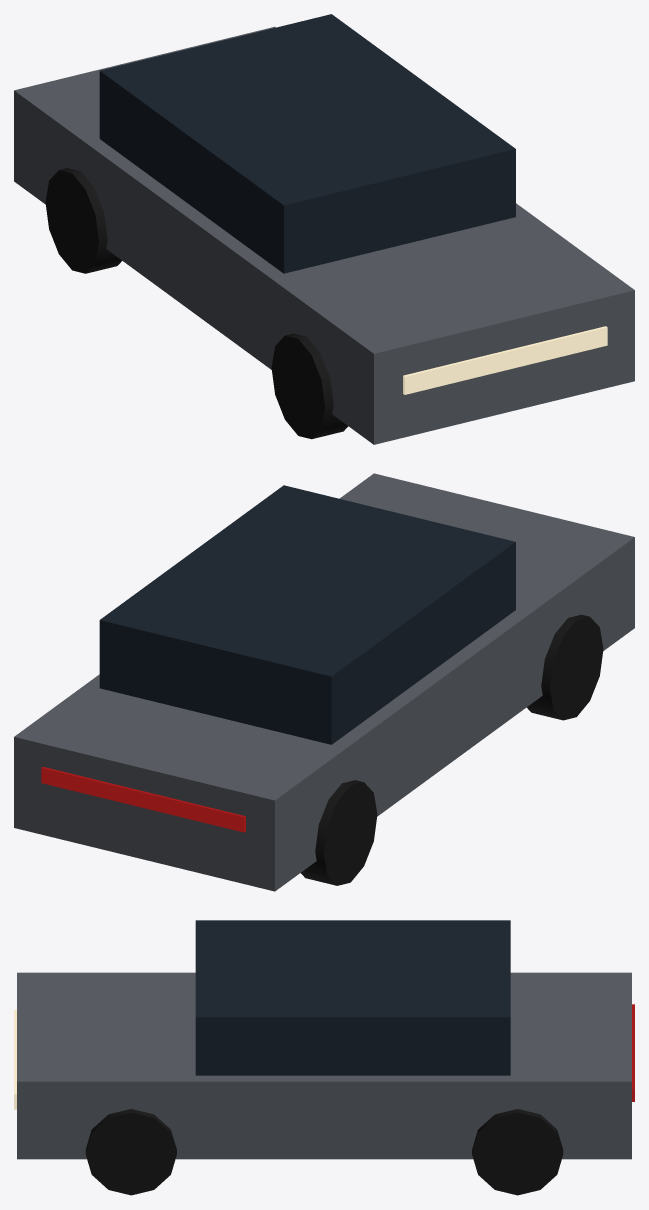
The model's file is prop_car.glb.
3 renders of one model, top to bottom at view 1: azimuth 30°, elevation 25°; view 2: azimuth 150°, elevation 25°; view 3: azimuth 270°, elevation 25°, orthographic. The views are drawn at different scales.
Bounding box in the file's own units: 1.92 × 1.3 × 4.34.
